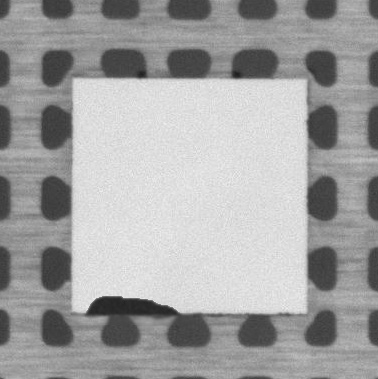DIE_BROKEN: (83, 293, 183, 315)
